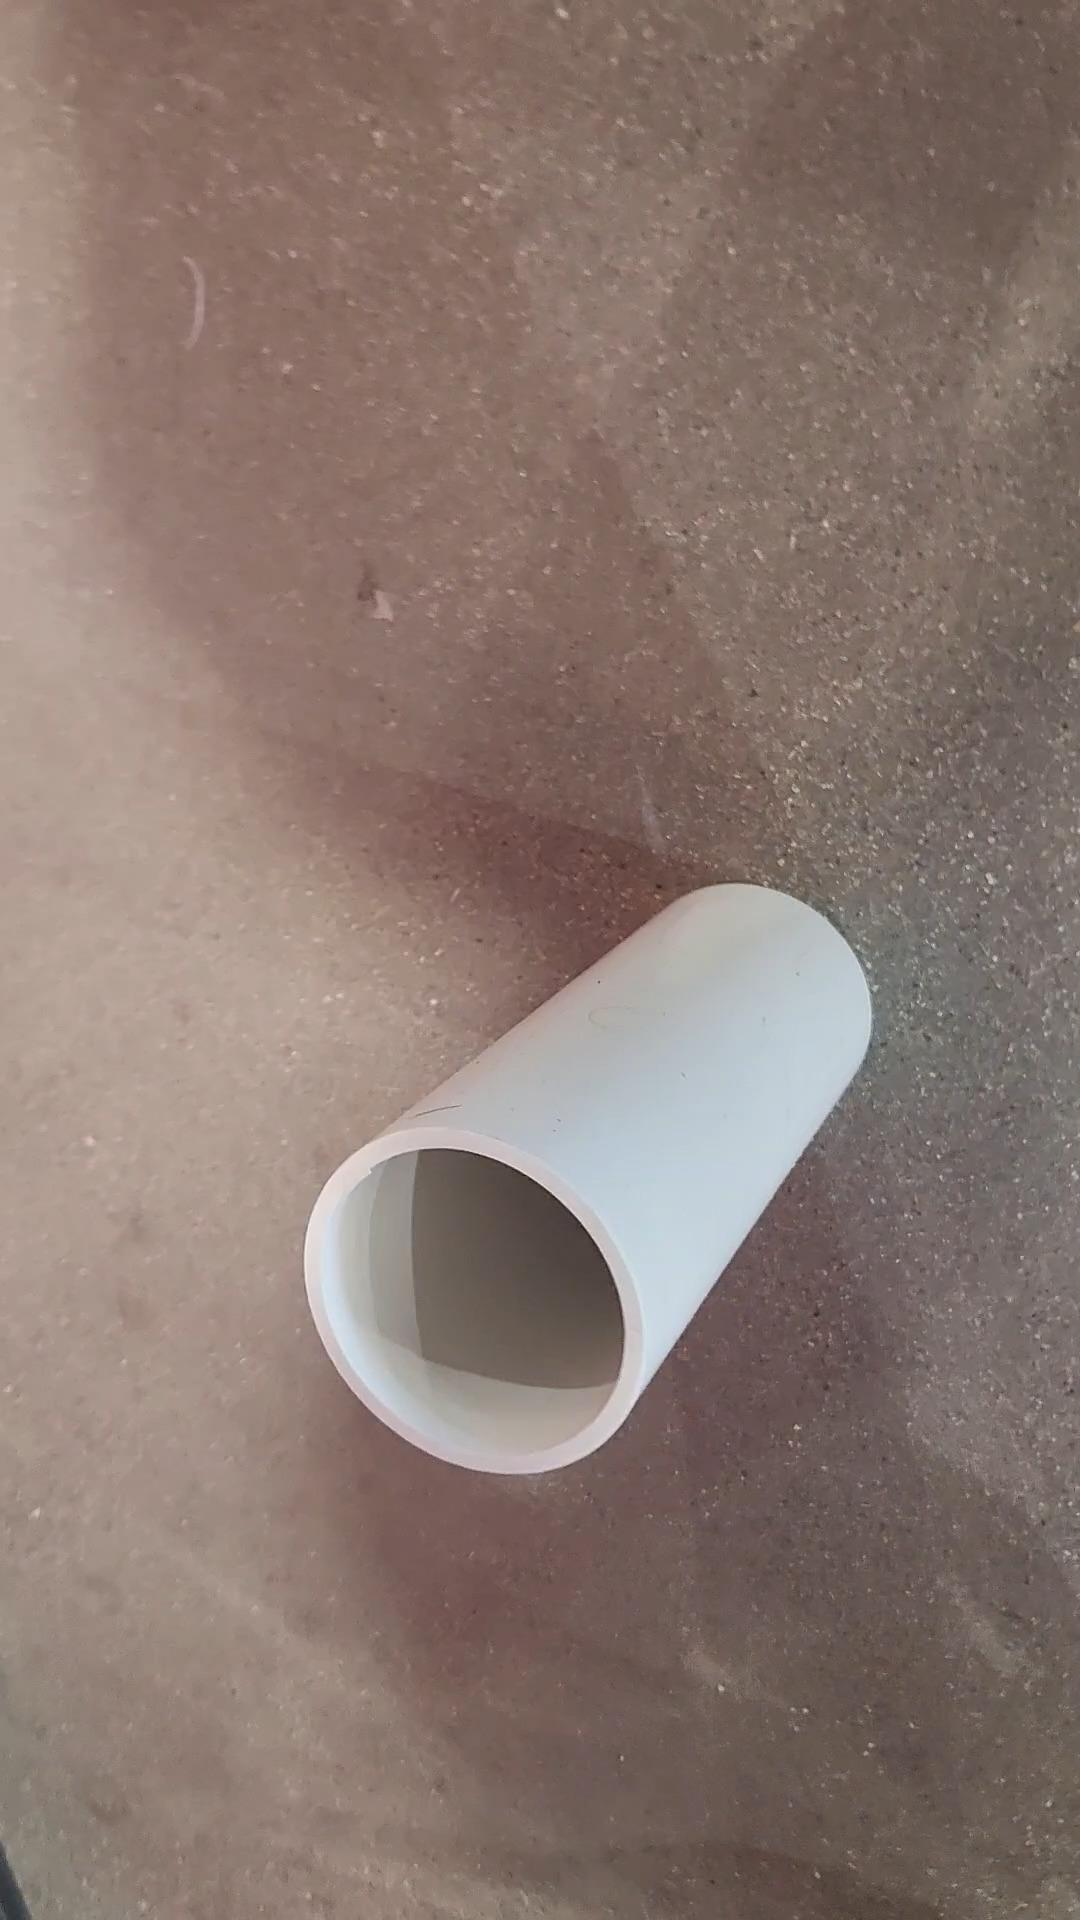coral: (301, 876, 876, 1477)
